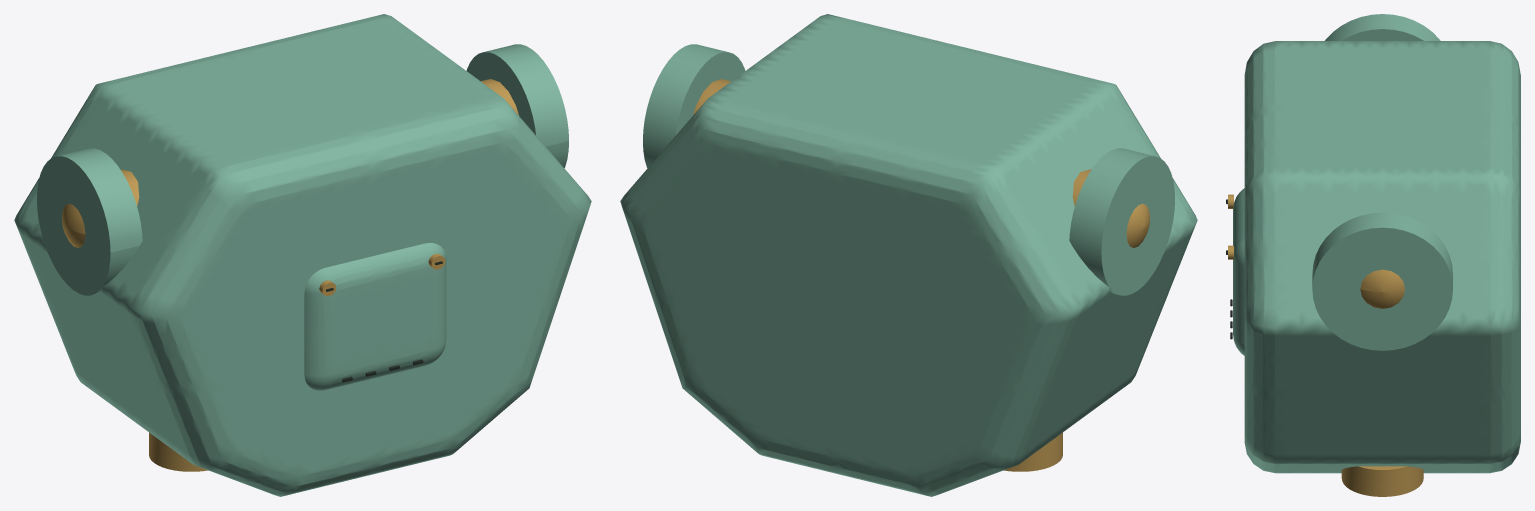
File: brute-torso-0.glb
3 views of the same model, side by side, from view 1: azimuth 30°, elevation 25°; view 2: azimuth 150°, elevation 25°; view 3: azimuth 270°, elevation 25° (orthographic). The views are drawn at different scales.
Parts seen in each view (by area): view 1: torso_clay, torso_paint, torso_hardware; view 2: torso_clay, torso_paint, torso_hardware; view 3: torso_clay, torso_paint, torso_hardware.
Boxes of the visible parts, left/top/right/bottom form: torso_clay: left=14, top=14, right=591, bottom=496; torso_paint: left=37, top=44, right=568, bottom=295; torso_hardware: left=62, top=79, right=518, bottom=471; torso_clay: left=620, top=14, right=1197, bottom=496; torso_paint: left=643, top=44, right=1174, bottom=295; torso_hardware: left=693, top=79, right=1149, bottom=471; torso_clay: left=1233, top=41, right=1520, bottom=473; torso_paint: left=1312, top=14, right=1452, bottom=350; torso_hardware: left=1228, top=194, right=1423, bottom=496.
Bounding box in the file's own units: 1.79 × 1.23 × 1.01.
